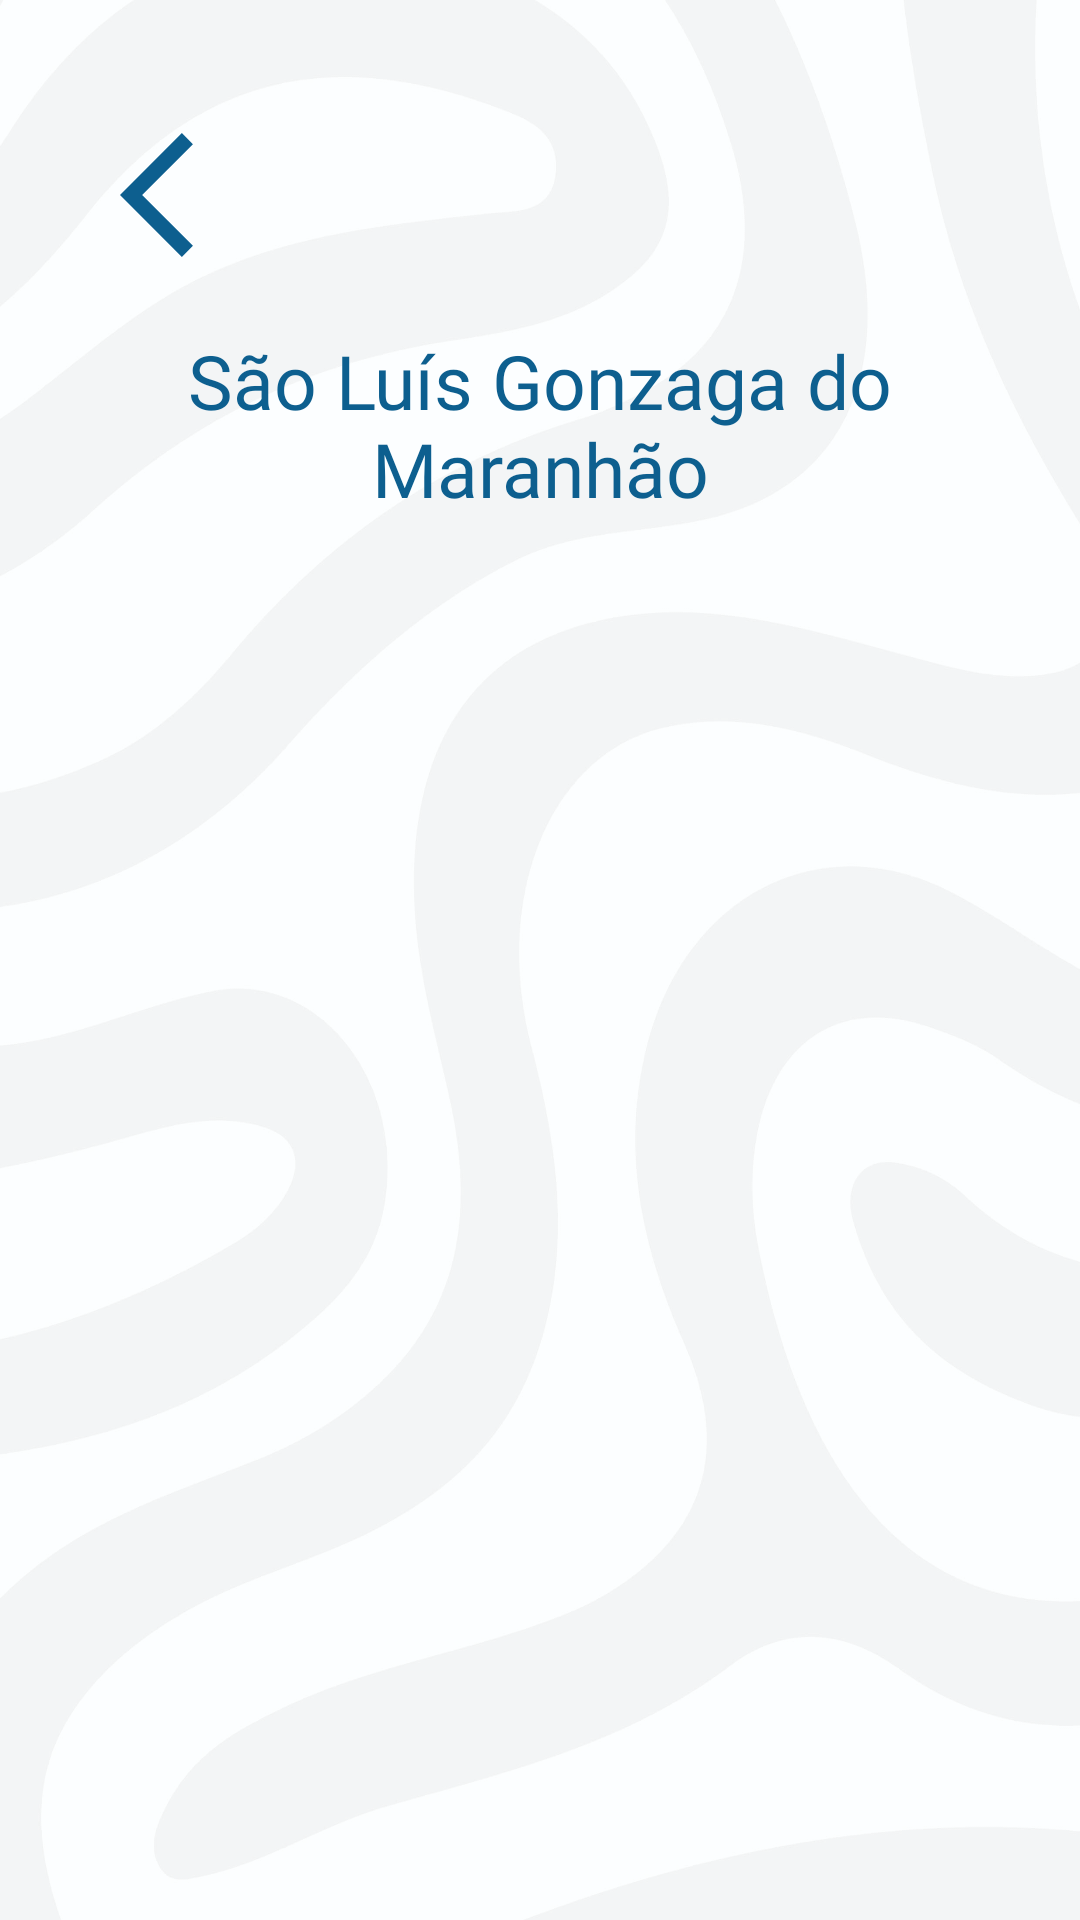

Where icons sit on this 1080*1920 app screen, as (x1, y1, x2, y2):
voltar: (120, 133, 193, 257)
